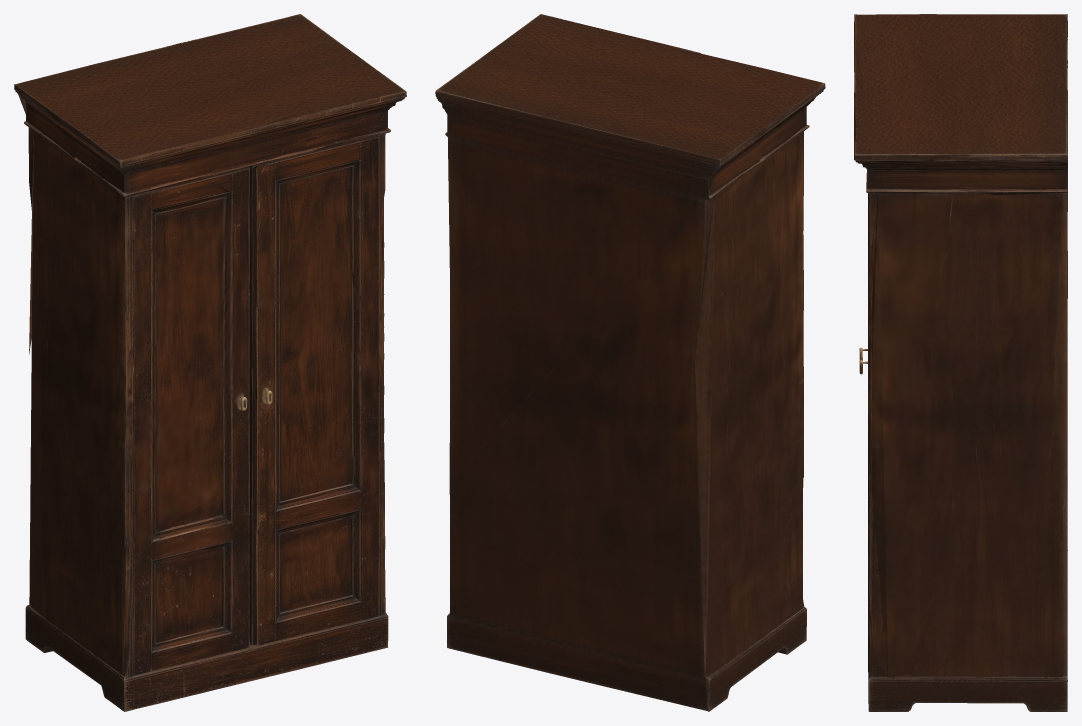
Rendered from armadio.glb.
The picture shows the model from 3 angles, left to right: view 1: azimuth 30°, elevation 25°; view 2: azimuth 150°, elevation 25°; view 3: azimuth 270°, elevation 25°; orthographic projection.
Parts seen in each view (by area): view 1: Mesh_0; view 2: Mesh_0; view 3: Mesh_0.
Part boxes in pixels (x1=…): Mesh_0: x1=14, y1=14, x2=406, y2=711; Mesh_0: x1=435, y1=14, x2=825, y2=711; Mesh_0: x1=854, y1=14, x2=1067, y2=711.
Size of the model in its own units: 1.02 by 1.9 by 0.6545.
1 material, 1 textured.
